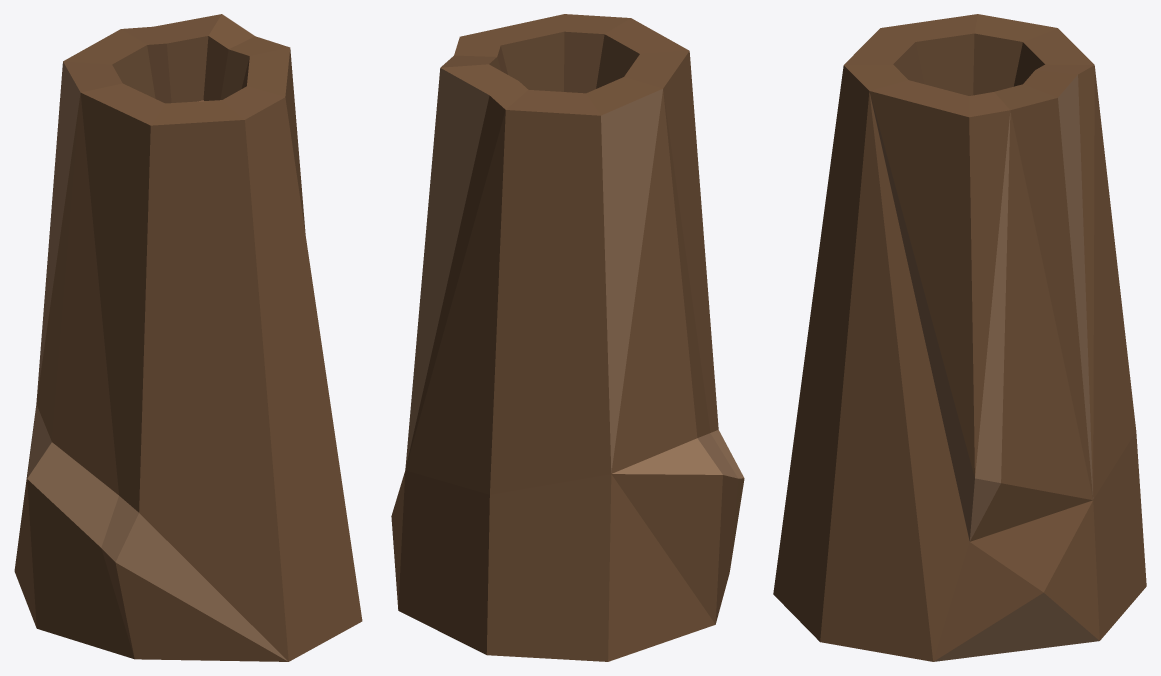
File: mesh_stump_pine_03.fbx
3 renders of one model, left to right at view 1: azimuth 30°, elevation 25°; view 2: azimuth 150°, elevation 25°; view 3: azimuth 270°, elevation 25°, orthographic.
Visible parts, largest first — view 1: mesh_stump_pine_03; view 2: mesh_stump_pine_03; view 3: mesh_stump_pine_03.
Boxes of the visible parts, x1,y1,x2,y2 form: mesh_stump_pine_03: (14,14,362,661); mesh_stump_pine_03: (391,14,744,661); mesh_stump_pine_03: (773,14,1146,661).
Bounding box in the file's own units: 1.14 × 1.91 × 1.21.
